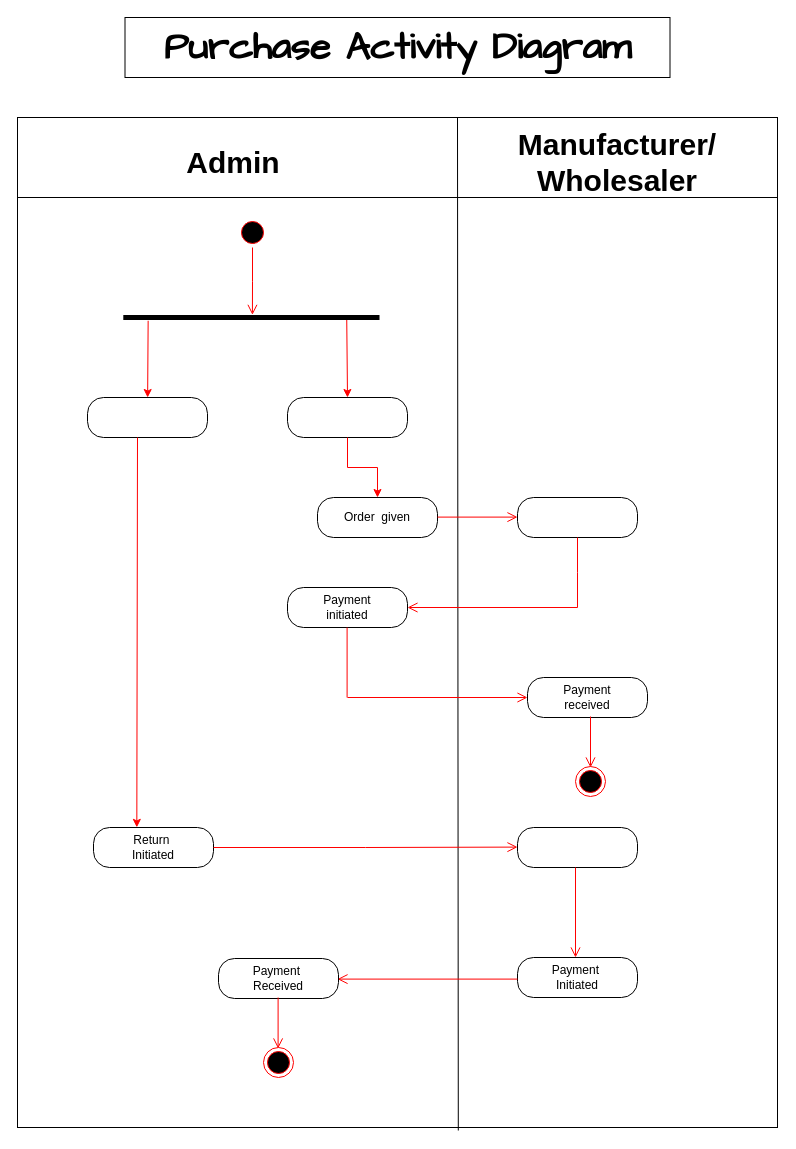
This 796x1149 diagram has some shape labels left out. Here are the shapes that lost their labels. From the top down, the centre of each, then its label:
At (147,417): "Purchase Return".
At (347,417): "Purchase".
At (577,517): "Order Confirmed".
At (577,847): "Return accepted".
